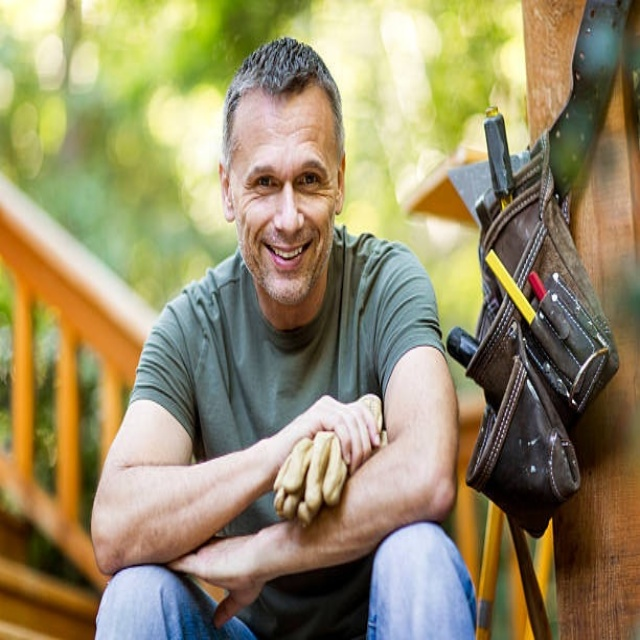Sin_gafas: (237, 152, 328, 205)
Sin_guantes: (273, 396, 383, 528)
Sin_mascara: (255, 229, 314, 284)
